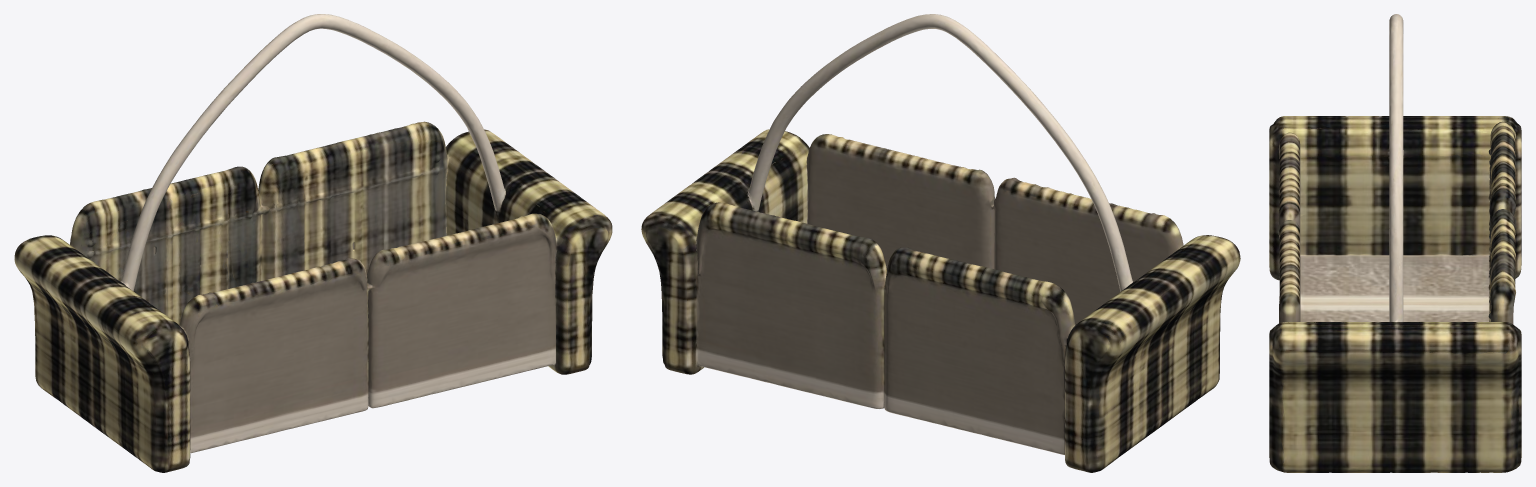
File: plaid_2.glb
3 renders of one model, left to right at view 1: azimuth 30°, elevation 25°; view 2: azimuth 150°, elevation 25°; view 3: azimuth 270°, elevation 25°, orthographic. The views are drawn at different scales.
Visible parts, largest first — view 1: geometry_0; view 2: geometry_0; view 3: geometry_0.
Part boxes in pixels (bbox=[...]): geometry_0: bbox=[14, 14, 612, 472]; geometry_0: bbox=[641, 14, 1240, 472]; geometry_0: bbox=[1269, 14, 1521, 472].
Size of the model in its own units: 1 by 0.7242 by 0.4691.
Materials: 1 (1 with a texture image).
